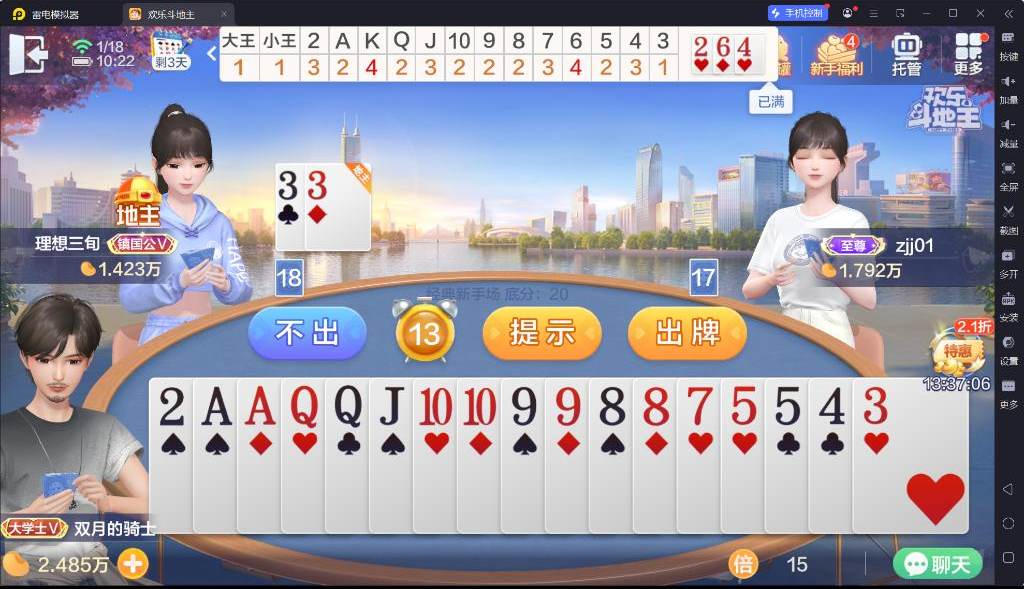A: (199, 384, 235, 428), (242, 383, 277, 427)
J: (375, 384, 408, 426)
Q: (286, 384, 320, 430), (332, 383, 362, 429)
eight: (639, 385, 673, 427), (597, 384, 627, 428)
five: (728, 384, 760, 426), (772, 385, 803, 428)
four: (815, 385, 846, 428), (736, 35, 753, 57)
nine: (550, 385, 584, 429), (507, 384, 539, 428)
seven: (684, 384, 716, 426)
six: (715, 36, 732, 58)
ten: (417, 384, 455, 428), (462, 384, 498, 428)
three: (863, 384, 890, 426), (276, 169, 300, 202), (306, 169, 328, 201)
two: (156, 385, 188, 430), (693, 36, 709, 58)
